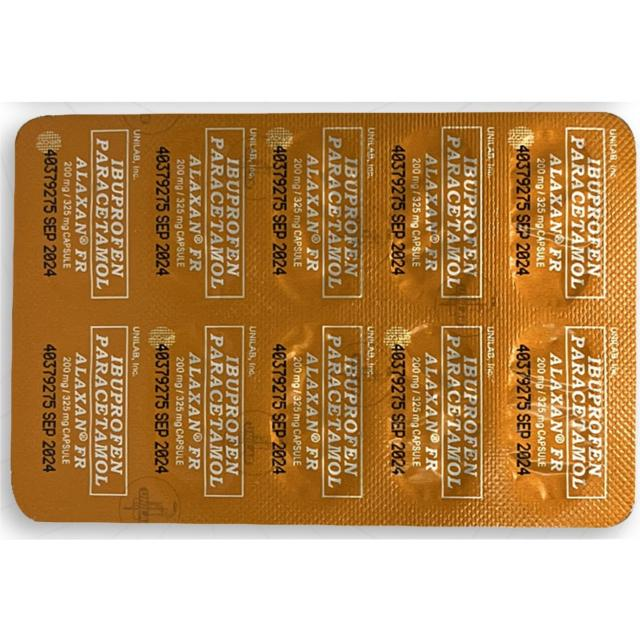blister: (8, 107, 635, 530)
